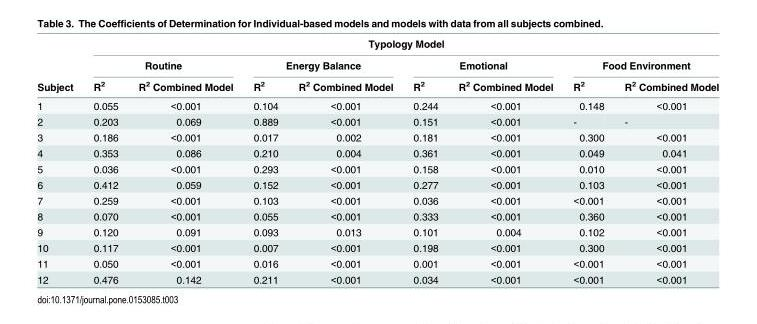table: (36, 37, 718, 284)
table column: (127, 37, 242, 284), (287, 37, 402, 284), (447, 37, 562, 284), (613, 37, 718, 284), (562, 37, 613, 284), (36, 37, 82, 284), (82, 37, 127, 284), (242, 37, 287, 284), (402, 37, 447, 284)
table column header: (36, 37, 718, 95)
table row: (36, 53, 718, 74), (36, 74, 718, 95), (36, 95, 718, 113), (36, 37, 718, 53), (36, 113, 718, 129), (36, 144, 718, 160), (36, 160, 718, 176), (36, 176, 718, 192), (36, 192, 718, 208), (36, 223, 718, 239), (36, 239, 718, 255), (36, 255, 718, 271), (36, 129, 718, 144), (36, 208, 718, 223), (36, 271, 718, 284)
table spanning cell: (82, 37, 718, 53), (82, 53, 242, 74), (242, 53, 402, 74), (402, 53, 562, 74), (562, 53, 718, 74), (36, 37, 82, 95)
